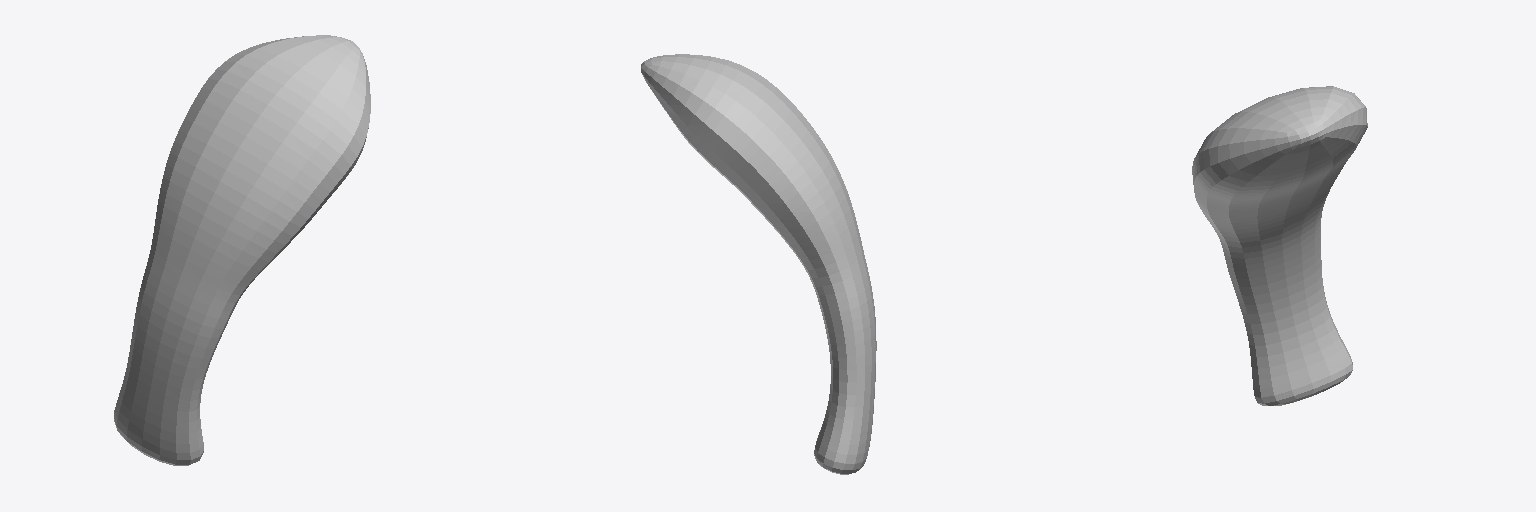
The model's file is R_F_tentacle.obj.
3 views of the same model, side by side, from view 1: azimuth 30°, elevation 25°; view 2: azimuth 150°, elevation 25°; view 3: azimuth 270°, elevation 25° (orthographic).
Visible parts, largest first — view 1: 큐브; view 2: 큐브; view 3: 큐브.
Boxes of the visible parts, box(x1,y1,x2,y2) form: 큐브: box(114, 35, 370, 465); 큐브: box(641, 54, 876, 474); 큐브: box(1192, 86, 1367, 405).
Bounding box in the file's own units: 0.097 × 0.1518 × 0.0647.